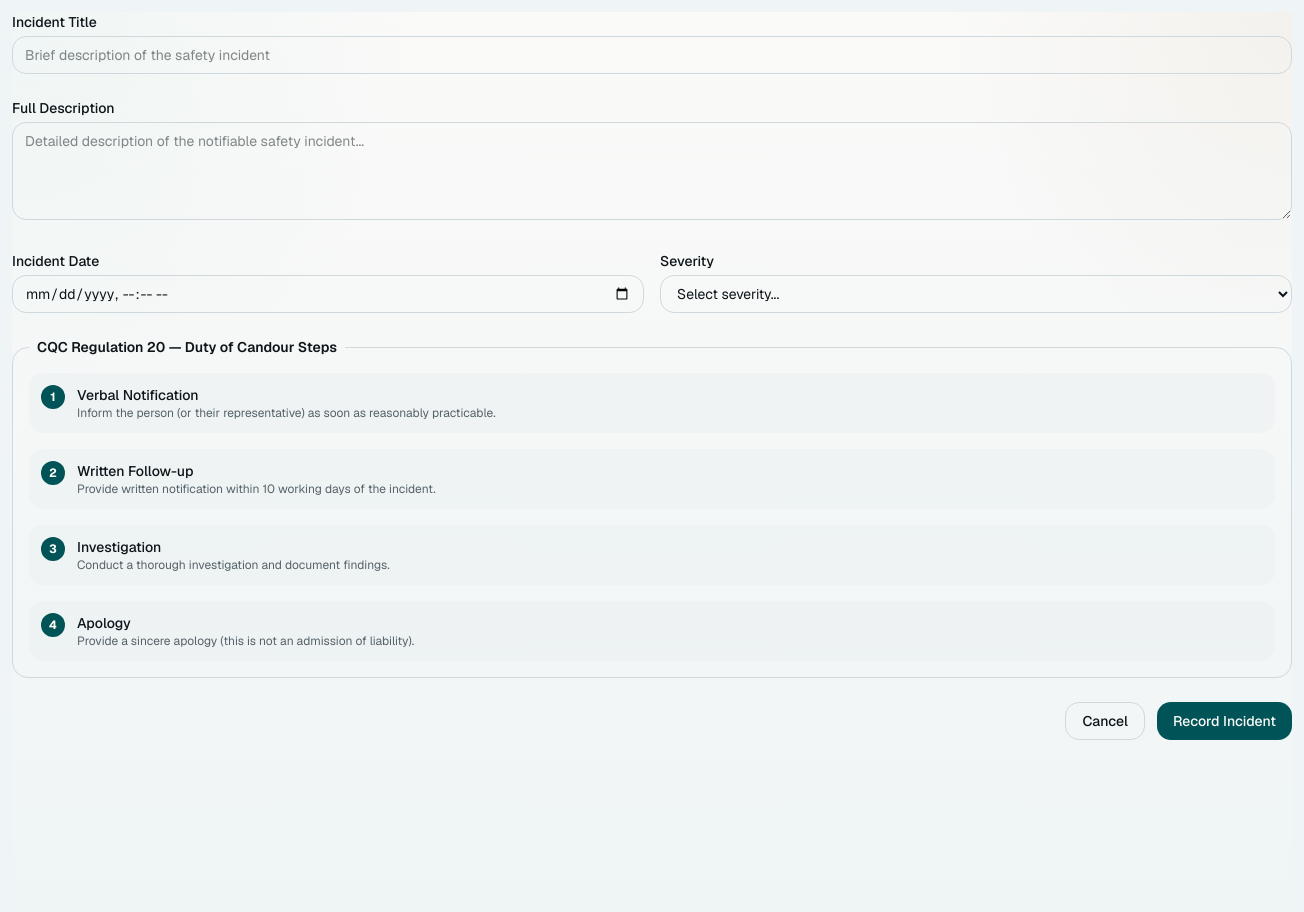
global draft-authoring forms › captures a duty of candour incident draft for browser UAT
Type "Medication error" into the field labelled "Incident Title" at (652, 55), box [12,36,1292,74]
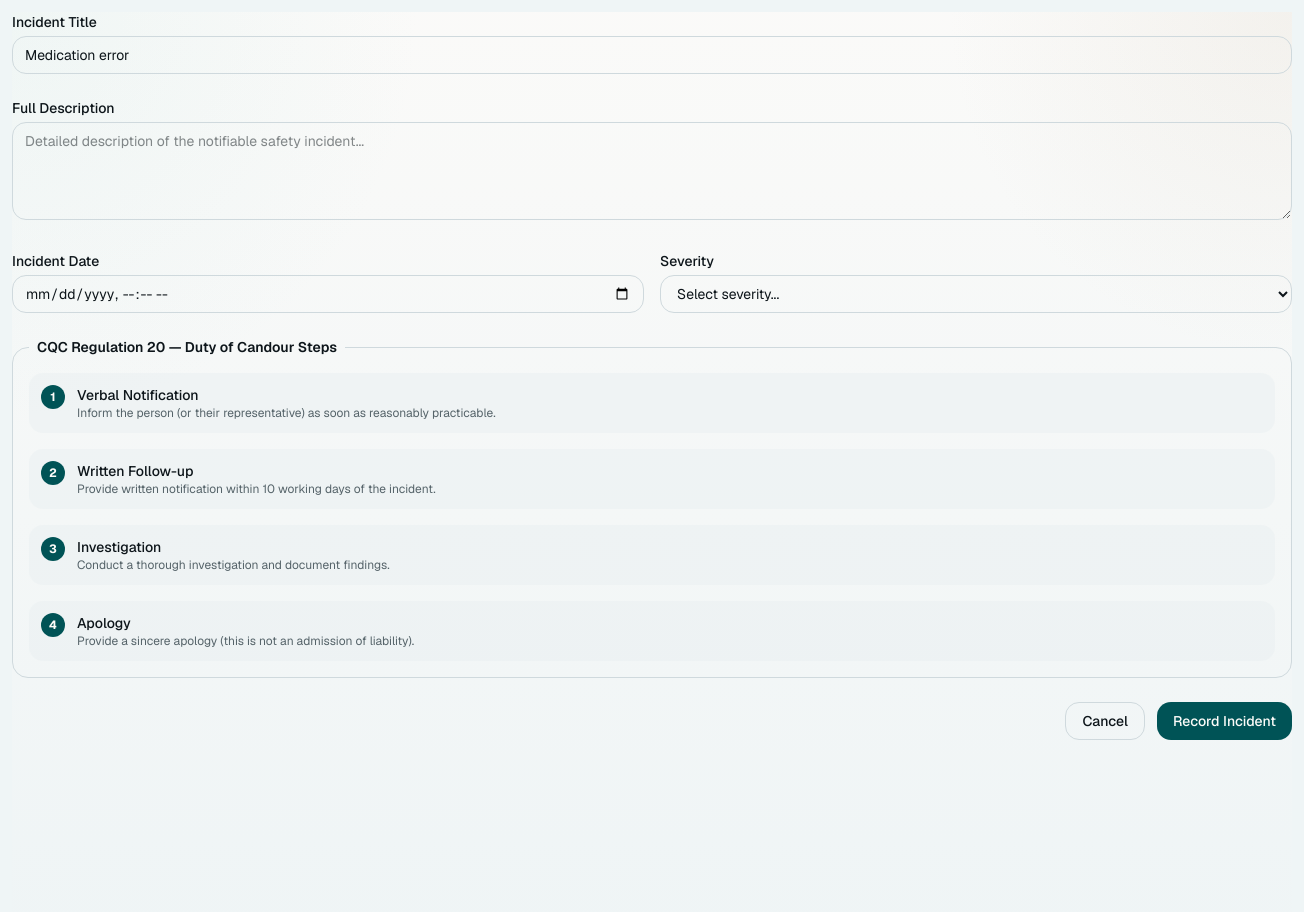
Type "A medication omission was identified during handover." into the text box labelled "Full Description" at (652, 171), box [12,122,1292,220]
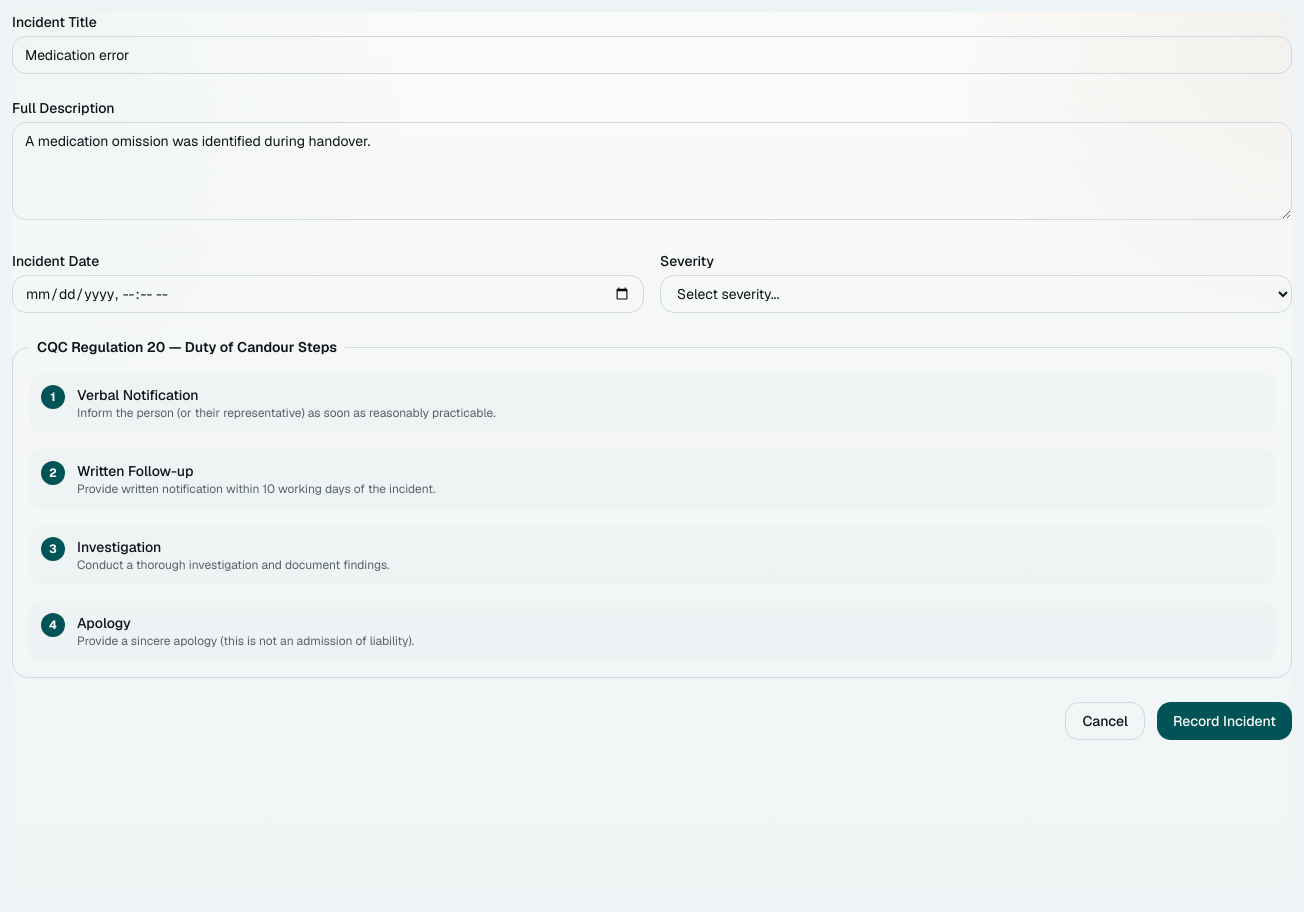
Type "2026-04-04T09:30" into the field labelled "Incident Date" at (328, 294), box [12,275,644,313]
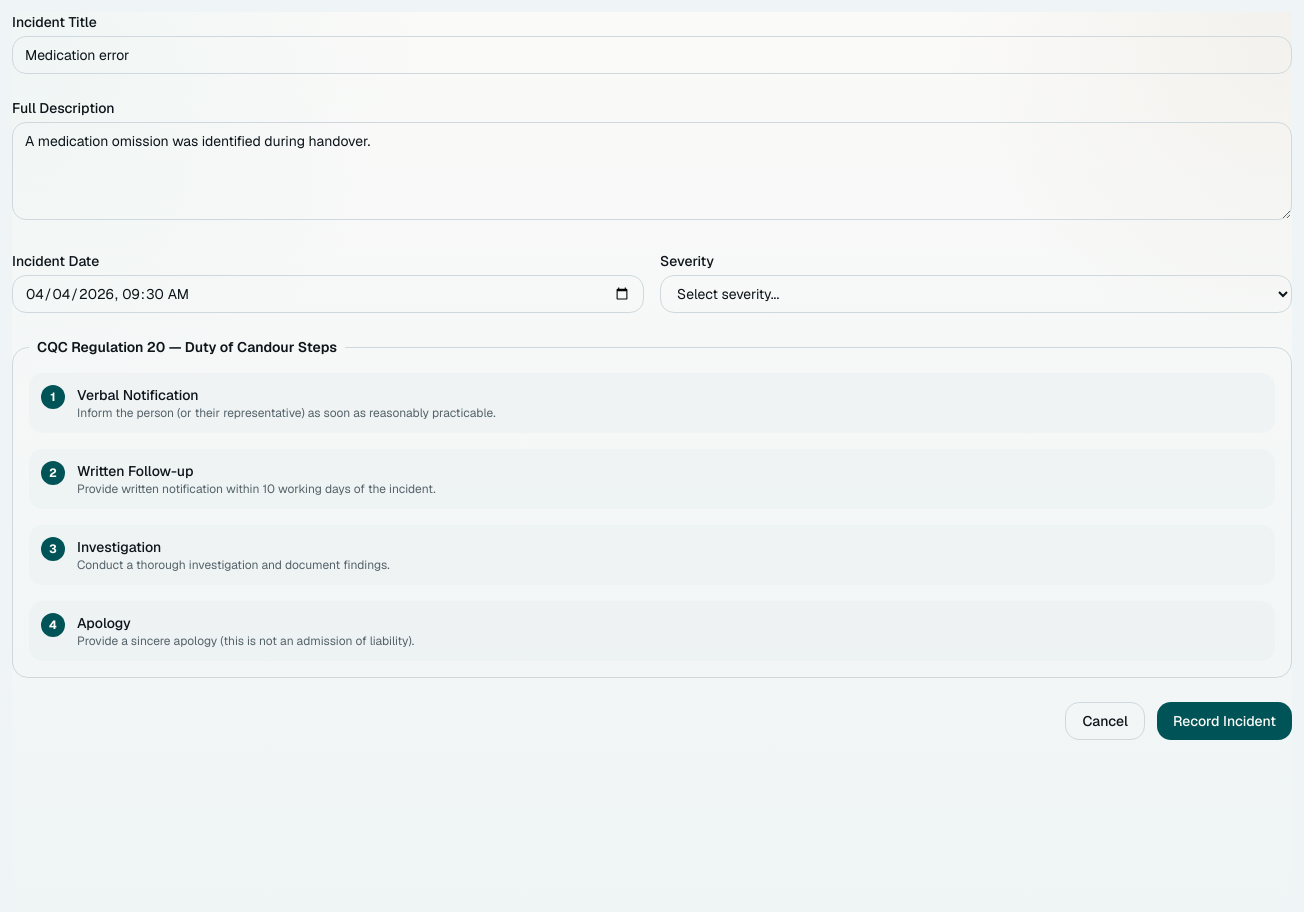
Select "Moderate Harm" in the dropdown labelled "Severity" at (976, 294), box [660,275,1292,313]
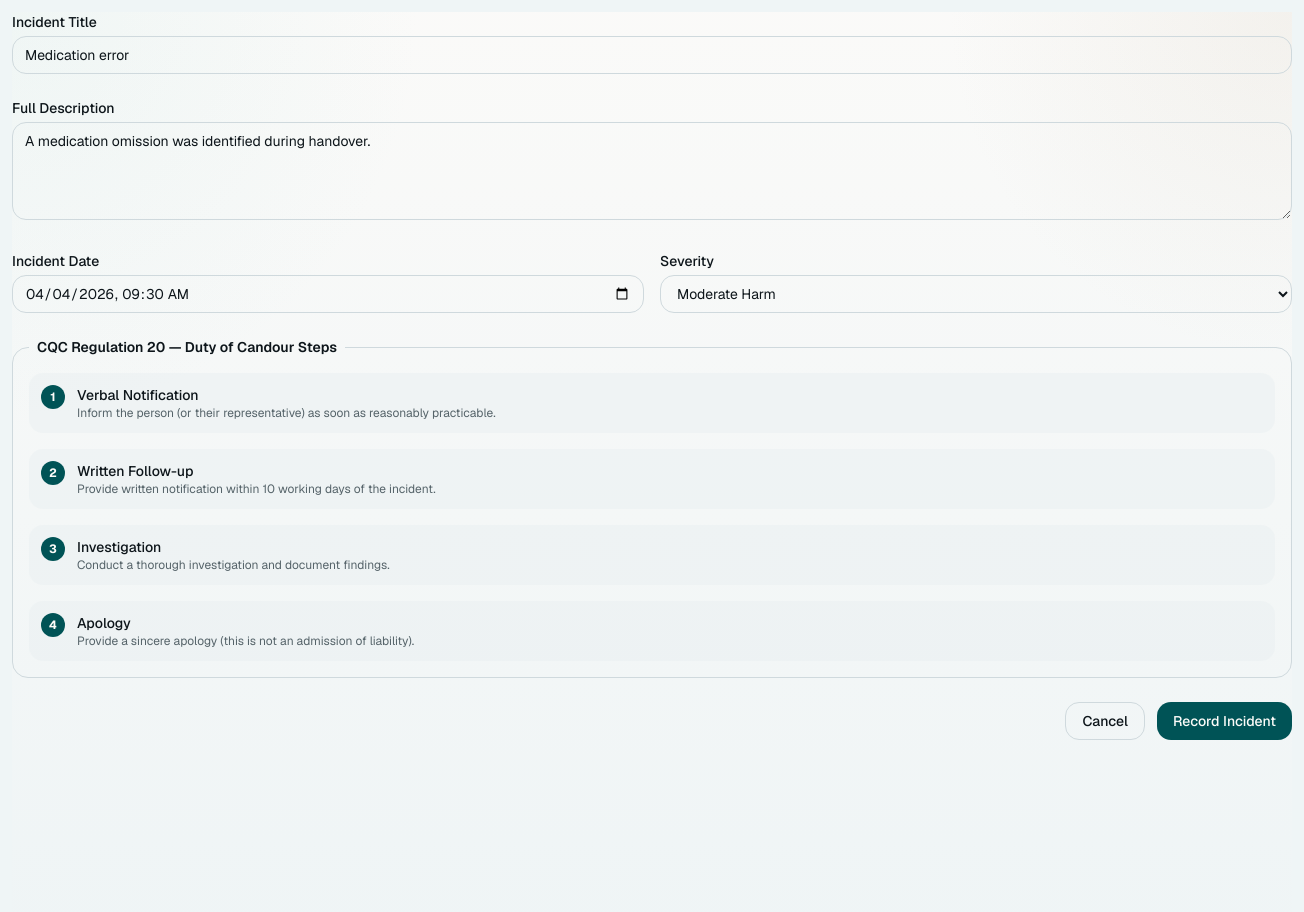
Click the button "Record Incident" at (1224, 721), box [1157,702,1292,740]
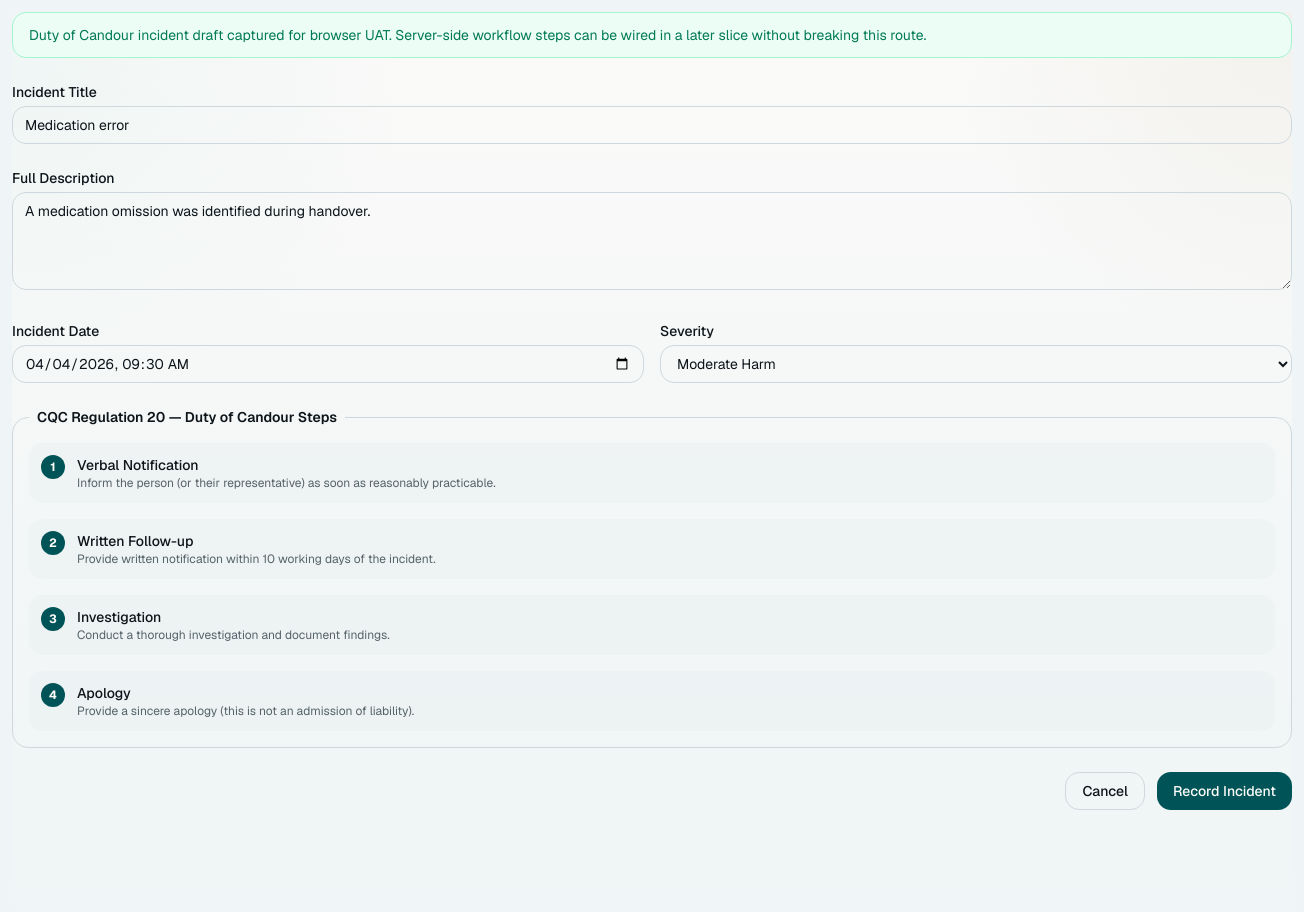
Expected: the text "Duty of Candour incident draft captured for browser UAT" is shown, [29,26,926,44]
